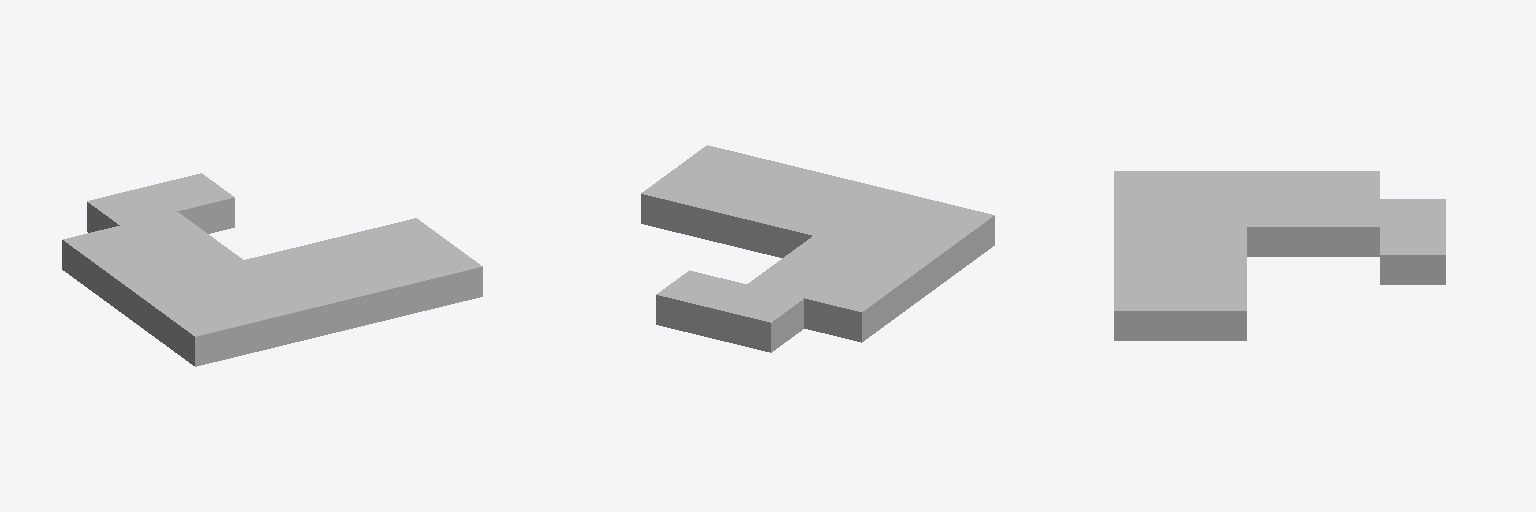
File: 31s_block.obj
3 renders of one model, left to right at view 1: azimuth 30°, elevation 25°; view 2: azimuth 150°, elevation 25°; view 3: azimuth 270°, elevation 25°, orthographic.
Visible parts, largest first — view 1: block.0.0_block.3571, block.4.0_block.3586, block.2.0_block.3581, block.1.0_block.3576, block.3.0_block.3584, block.2.4_block.3583, block.0.3_block.3574, block.0.2_block.3573, block.0.1_block.3572, block.1.4_block.3580, block.1.1_block.3577, block.1.3_block.3579 (+4 smaller); view 2: block.0.3_block.3574, block.1.4_block.3580, block.2.4_block.3583, block.3.1_block.3585, block.4.1_block.3587, block.2.1_block.3582, block.0.1_block.3572, block.0.0_block.3571, block.0.2_block.3573, block.2.0_block.3581, block.1.1_block.3577, block.1.3_block.3579 (+4 smaller); view 3: block.1.3_block.3579, block.4.1_block.3587, block.1.2_block.3578, block.2.4_block.3583, block.4.0_block.3586, block.0.1_block.3572, block.0.3_block.3574, block.1.1_block.3577, block.2.1_block.3582, block.3.1_block.3585, block.0.0_block.3571, block.0.2_block.3573 (+4 smaller).
Part boxes in pixels (left/top/right/bottom): block.0.0_block.3571: left=162, top=298, right=252, bottom=366; block.4.0_block.3586: left=392, top=242, right=482, bottom=310; block.2.0_block.3581: left=277, top=270, right=367, bottom=338; block.1.0_block.3576: left=220, top=285, right=309, bottom=352; block.3.0_block.3584: left=335, top=257, right=424, bottom=324; block.2.4_block.3583: left=145, top=173, right=234, bottom=233; block.0.3_block.3574: left=62, top=226, right=152, bottom=293; block.0.2_block.3573: left=96, top=250, right=184, bottom=317; block.0.1_block.3572: left=129, top=274, right=218, bottom=341; block.1.4_block.3580: left=87, top=187, right=176, bottom=232; block.1.1_block.3577: left=187, top=260, right=276, bottom=297; block.1.3_block.3579: left=120, top=212, right=209, bottom=249; block.0.3_block.3574: left=804, top=274, right=894, bottom=342; block.1.4_block.3580: left=714, top=285, right=803, bottom=352; block.2.4_block.3583: left=656, top=270, right=746, bottom=338; block.3.1_block.3585: left=698, top=183, right=788, bottom=251; block.4.1_block.3587: left=641, top=169, right=730, bottom=237; block.2.1_block.3582: left=756, top=198, right=846, bottom=257; block.0.1_block.3572: left=871, top=226, right=961, bottom=293; block.0.0_block.3571: left=904, top=201, right=994, bottom=268; block.0.2_block.3573: left=839, top=250, right=927, bottom=317; block.2.0_block.3581: left=789, top=173, right=878, bottom=210; block.1.1_block.3577: left=814, top=212, right=903, bottom=249; block.1.3_block.3579: left=747, top=260, right=836, bottom=297; block.1.3_block.3579: left=1313, top=199, right=1379, bottom=256; block.4.1_block.3587: left=1180, top=283, right=1246, bottom=340; block.1.2_block.3578: left=1247, top=199, right=1312, bottom=256; block.2.4_block.3583: left=1380, top=227, right=1445, bottom=284; block.4.0_block.3586: left=1114, top=283, right=1179, bottom=340; block.0.1_block.3572: left=1180, top=171, right=1246, bottom=198; block.0.3_block.3574: left=1313, top=171, right=1379, bottom=198; block.1.1_block.3577: left=1180, top=199, right=1246, bottom=226; block.2.1_block.3582: left=1180, top=227, right=1246, bottom=254; block.3.1_block.3585: left=1180, top=255, right=1246, bottom=282; block.0.0_block.3571: left=1114, top=171, right=1179, bottom=198; block.0.2_block.3573: left=1247, top=171, right=1312, bottom=198.
Size of the model in its own units: 10 by 1 by 10.